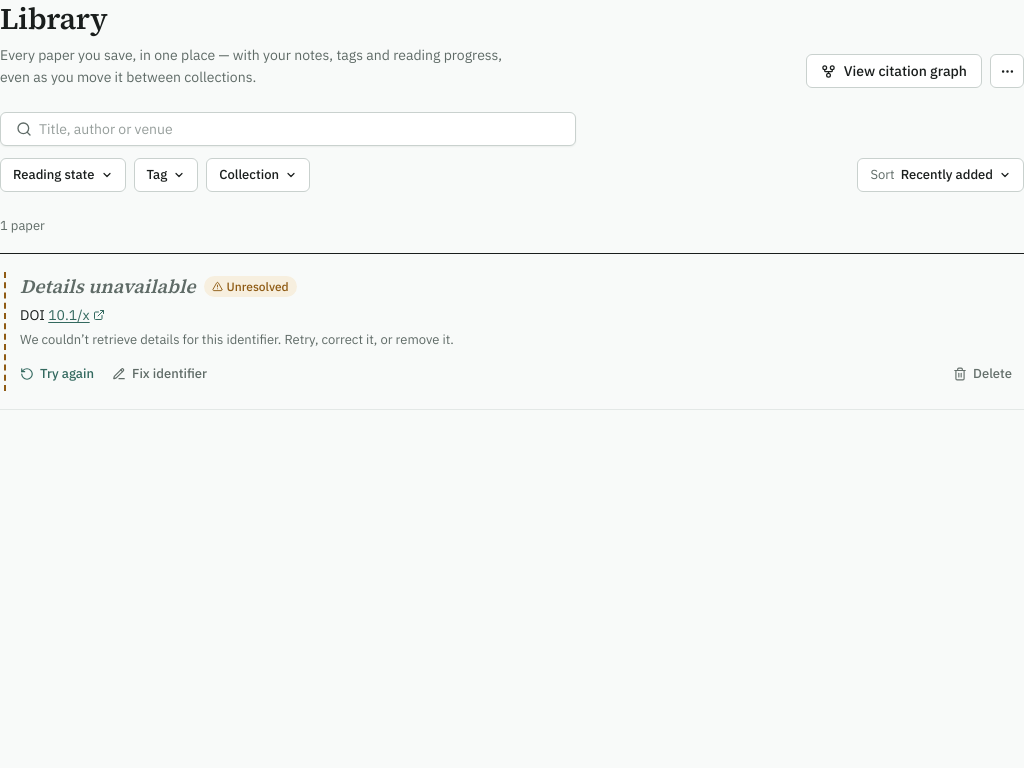
Test: LibraryPage › keeps a recovery card that opens details for entries without metadata
Step 1. Click the button "Details unavailable" → (108, 287), box [20,274,196,300]
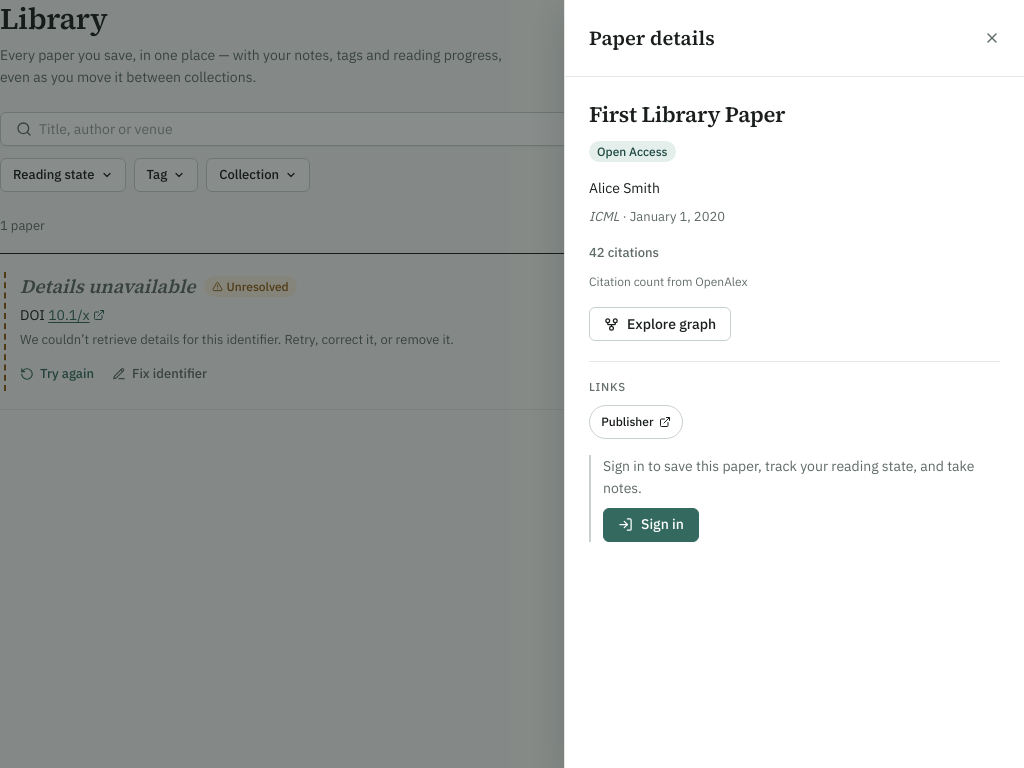
Expected: the dialog "Paper details" is shown, [564,0,1023,767]
